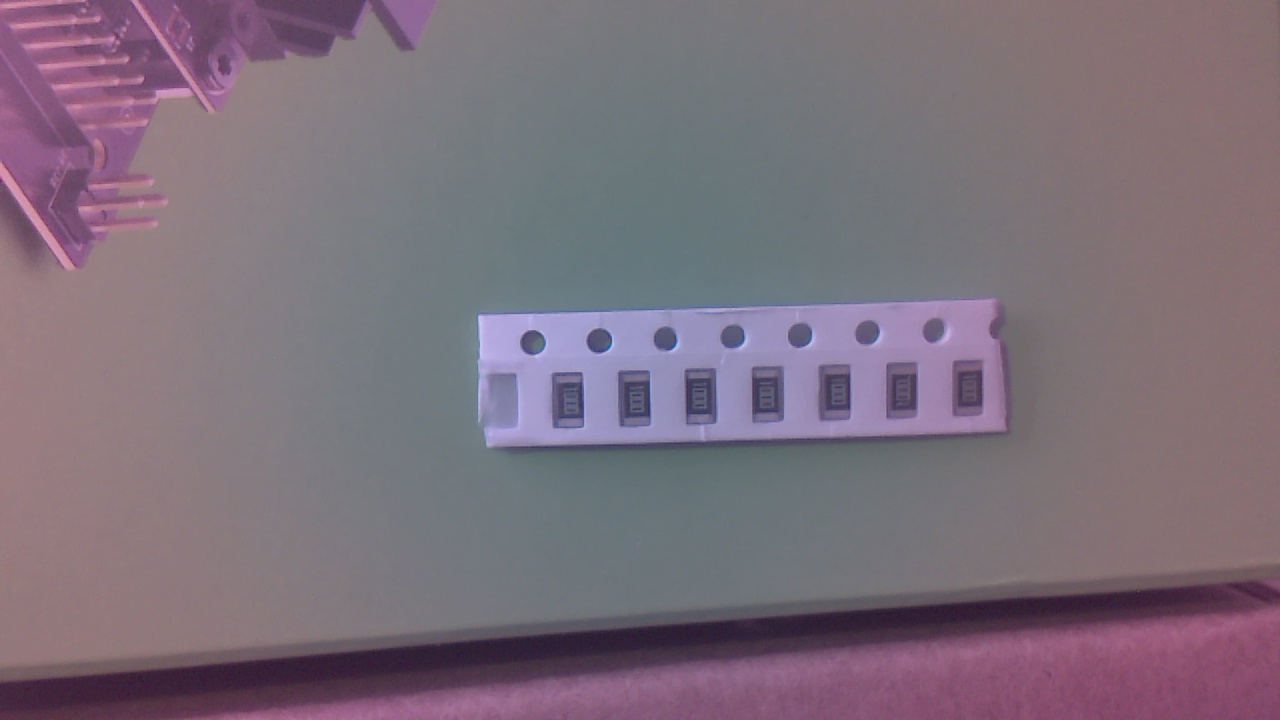Resistor: (823, 367, 858, 425), (759, 369, 791, 431), (556, 377, 590, 434), (892, 367, 924, 427), (689, 372, 721, 431), (624, 373, 656, 430), (958, 363, 988, 423)
